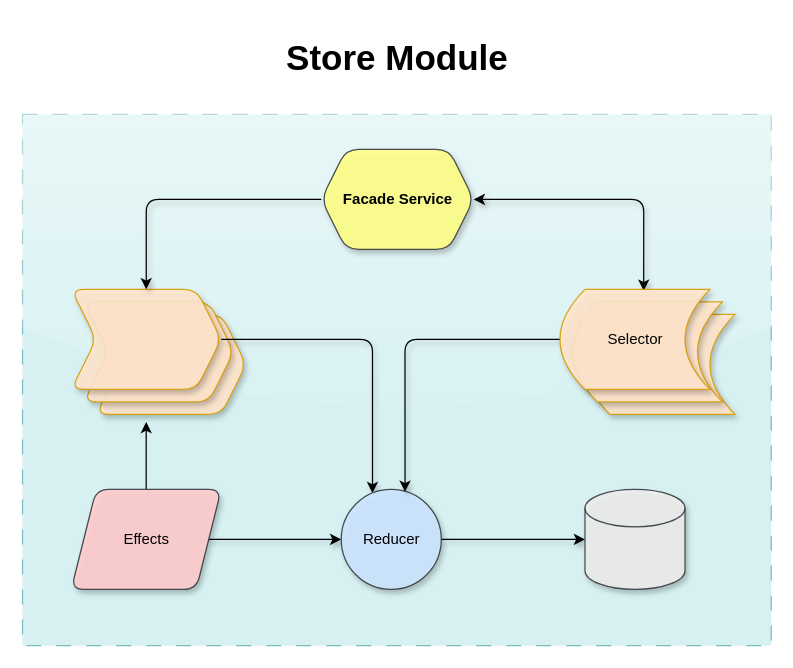
Some shapes in this 793 by 668 pixel diagram are drawn without their labels. The centre of each missing label's shape, as x and y in pixels:
Action: the point at 147,340
State: the point at 635,540
